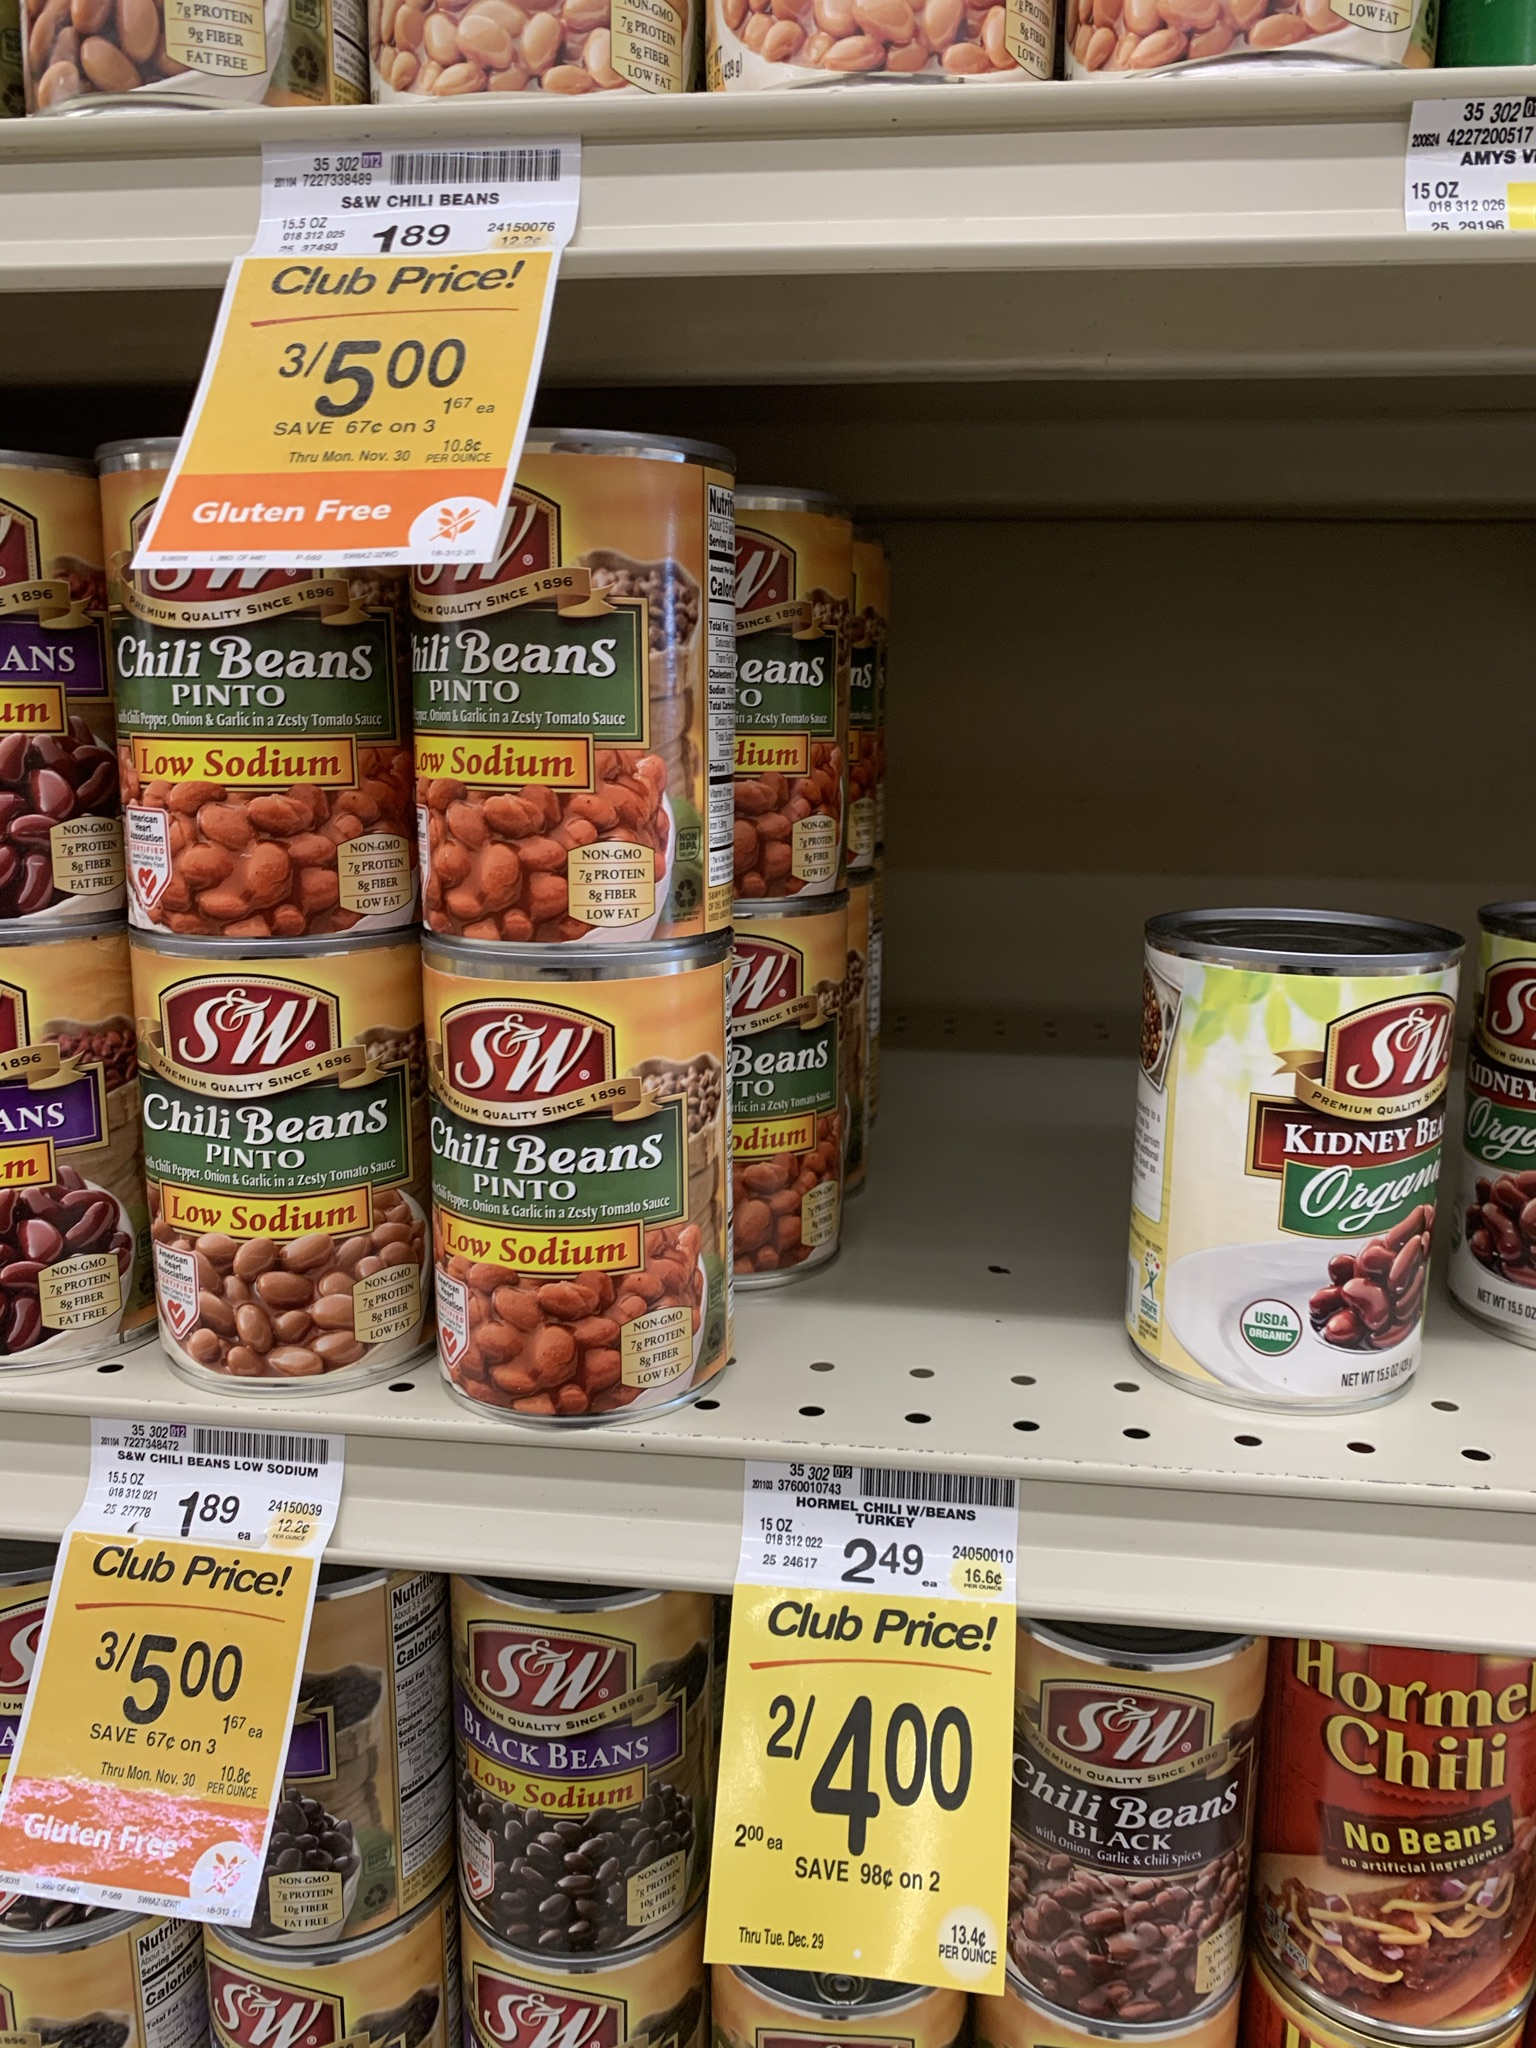can: (436, 968, 724, 1387), (415, 560, 728, 943), (1163, 943, 1425, 1388), (144, 968, 416, 1371), (118, 577, 399, 934), (1286, 1653, 1536, 2017), (453, 1592, 671, 1945), (1025, 1640, 1233, 2008)
